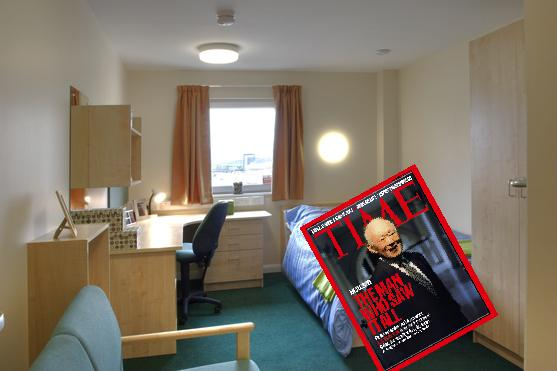times: (298, 162, 499, 371)
